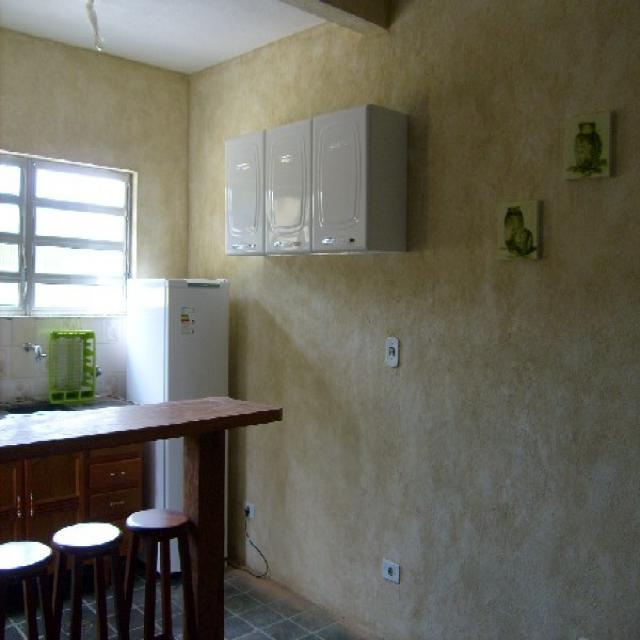2001: (1, 148, 133, 316)
beam: (279, 0, 388, 43)
cupboard occluded: (313, 105, 369, 249), (262, 115, 314, 252), (220, 127, 265, 257)
drawer handle: (89, 457, 141, 489)
faucet handle: (21, 337, 42, 360)
floor -X: (4, 566, 366, 634)
fridge crop: (124, 274, 228, 573)
kitchen: (1, 388, 282, 458)
kitchen desk: (223, 98, 406, 256)
object: (50, 333, 95, 401)
picture crop: (563, 111, 610, 175), (498, 199, 538, 262)
socket: (379, 550, 399, 586), (383, 331, 402, 366), (241, 499, 256, 519)
stool crop: (119, 505, 197, 636), (48, 518, 130, 634), (1, 539, 55, 639)
wall clock: (186, 0, 637, 634), (1, 27, 183, 411)
